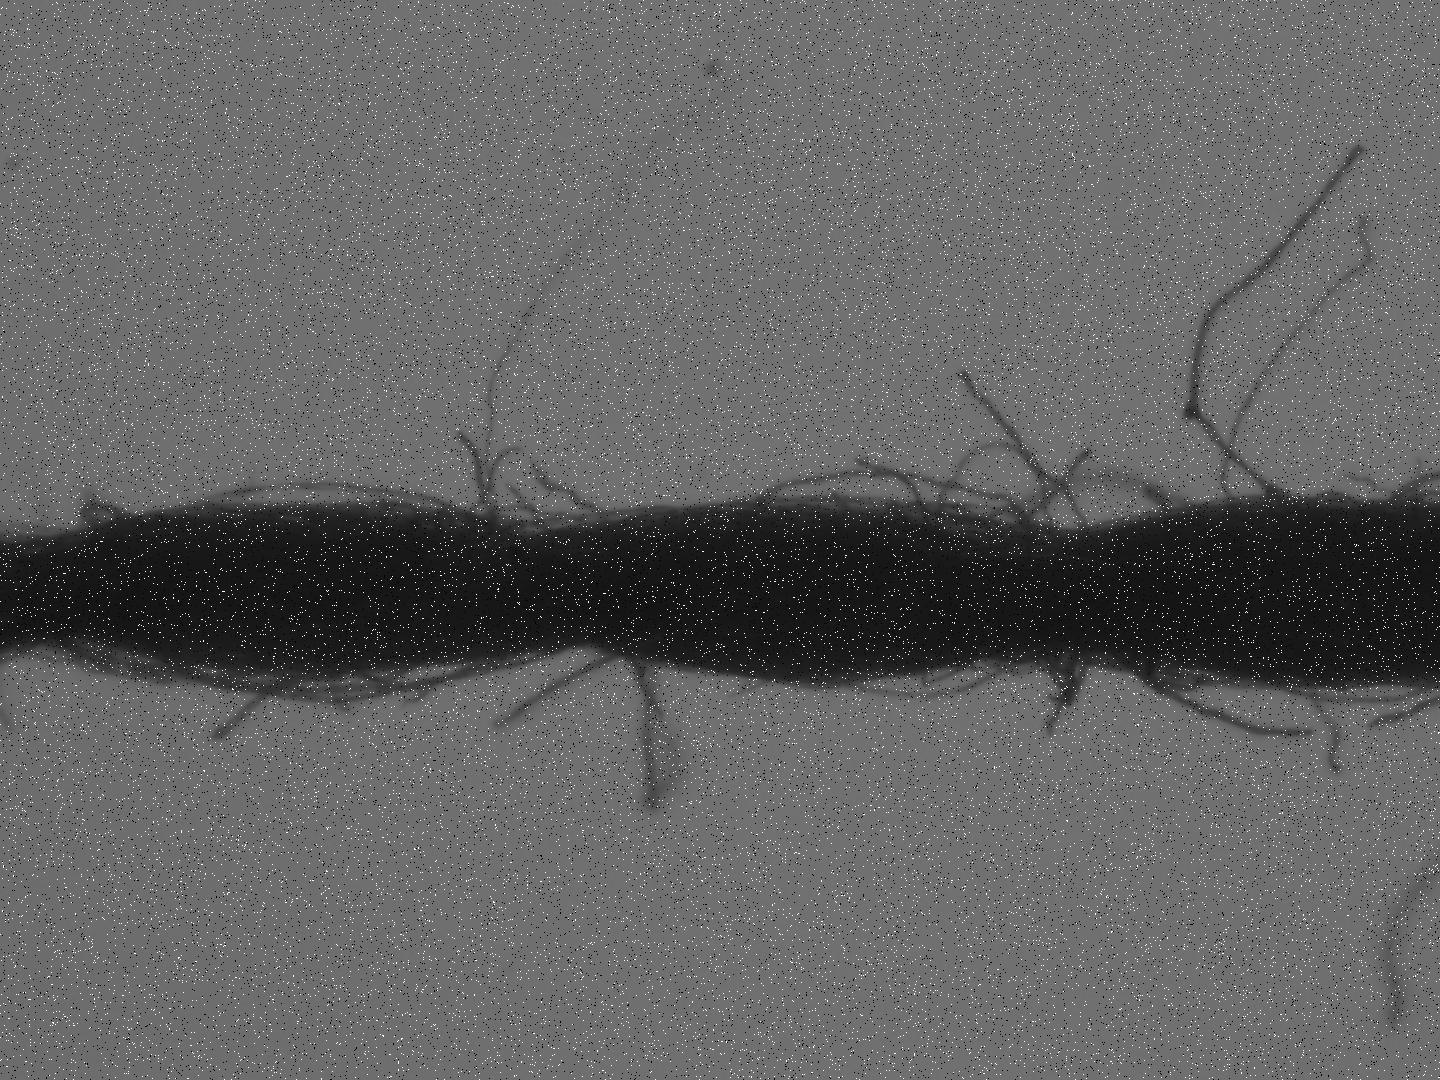loop_fiber: (142, 634, 582, 711), (104, 475, 520, 545), (760, 464, 1048, 541), (934, 441, 1087, 532), (844, 660, 1025, 702), (1281, 683, 1432, 707), (1031, 651, 1093, 708)
protruding_fiber: (494, 650, 622, 735), (525, 459, 617, 525)
